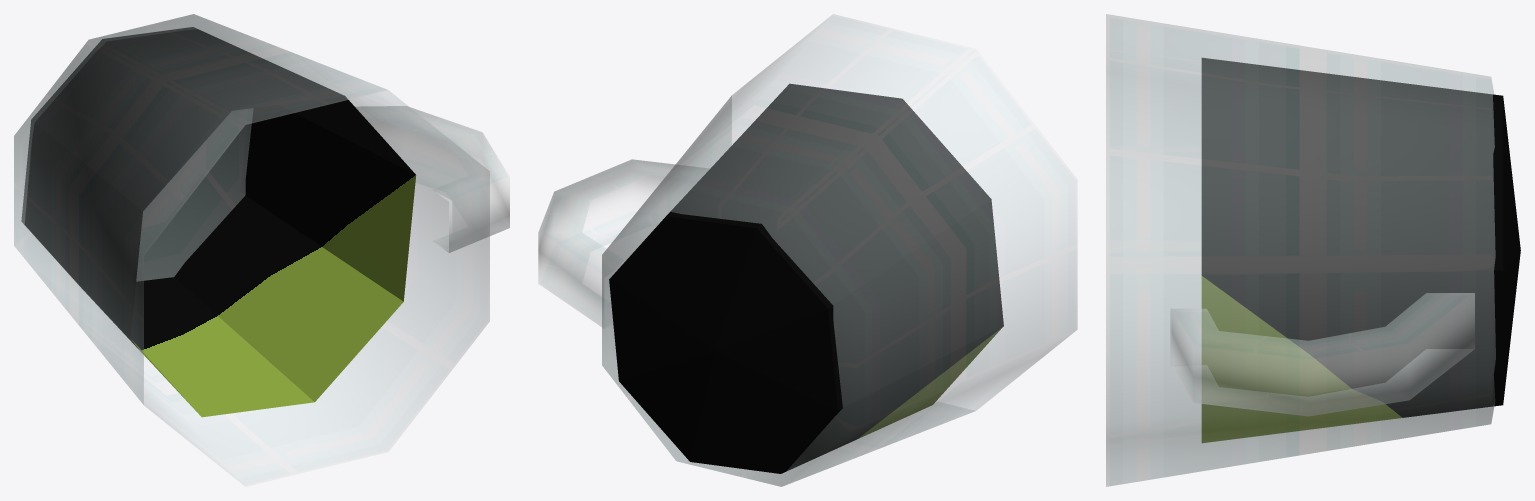
The model's file is 2762item2762e.gltf.
The picture shows the model from 3 angles, left to right: view 1: azimuth 30°, elevation 25°; view 2: azimuth 150°, elevation 25°; view 3: azimuth 270°, elevation 25°; orthographic projection. The views are drawn at different scales.
Parts seen in each view (by area): view 1: 2762item2762e; view 2: 2762item2762e; view 3: 2762item2762e.
Part boxes in pixels (bbox=[...]): 2762item2762e: bbox=[14, 14, 509, 486]; 2762item2762e: bbox=[538, 14, 1077, 486]; 2762item2762e: bbox=[1106, 14, 1520, 486].
Size of the model in its own units: 0.4819 by 0.3867 by 0.3667.
Materials: 2 (2 with a texture image).
